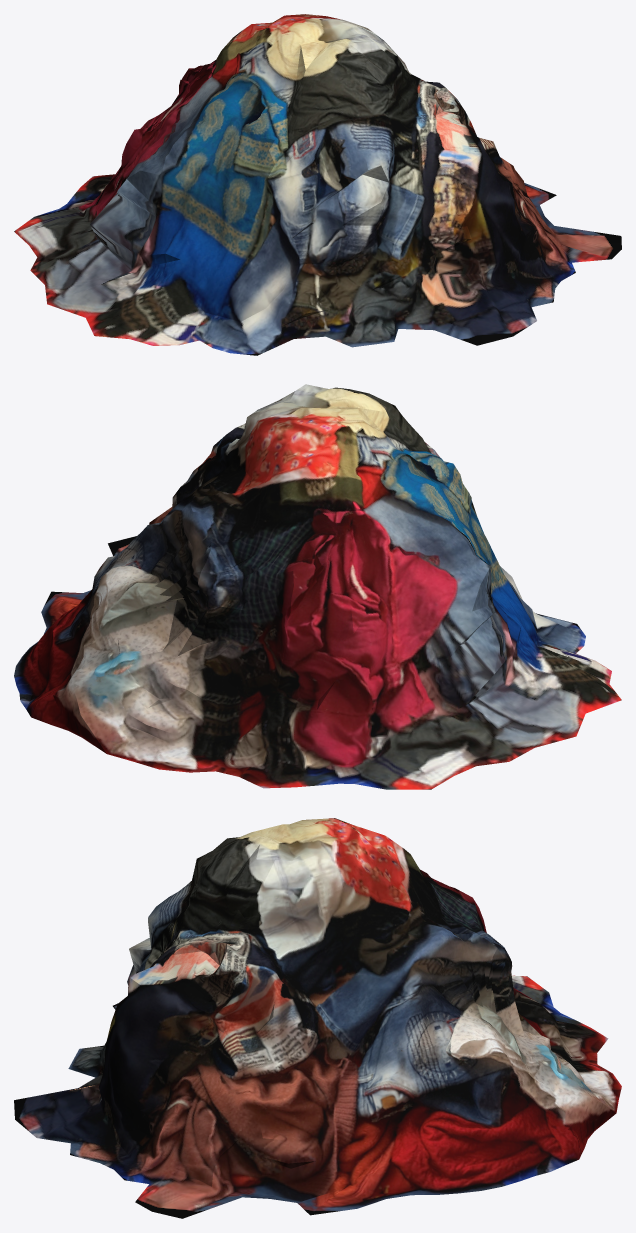
Rendered from large_pile_of_cloth.glb.
The picture shows the model from 3 angles, top to bottom: view 1: azimuth 30°, elevation 25°; view 2: azimuth 150°, elevation 25°; view 3: azimuth 270°, elevation 25°; orthographic projection. The views are drawn at different scales.
Parts seen in each view (by area): view 1: Object_2; view 2: Object_2; view 3: Object_2.
Boxes of the visible parts, bbox=[...] form: Object_2: bbox=[14, 14, 621, 355]; Object_2: bbox=[14, 384, 621, 789]; Object_2: bbox=[14, 818, 621, 1218].
Bounding box in the file's own units: 21.31 × 9.71 × 20.34.
Materials: 1 (1 with a texture image).
